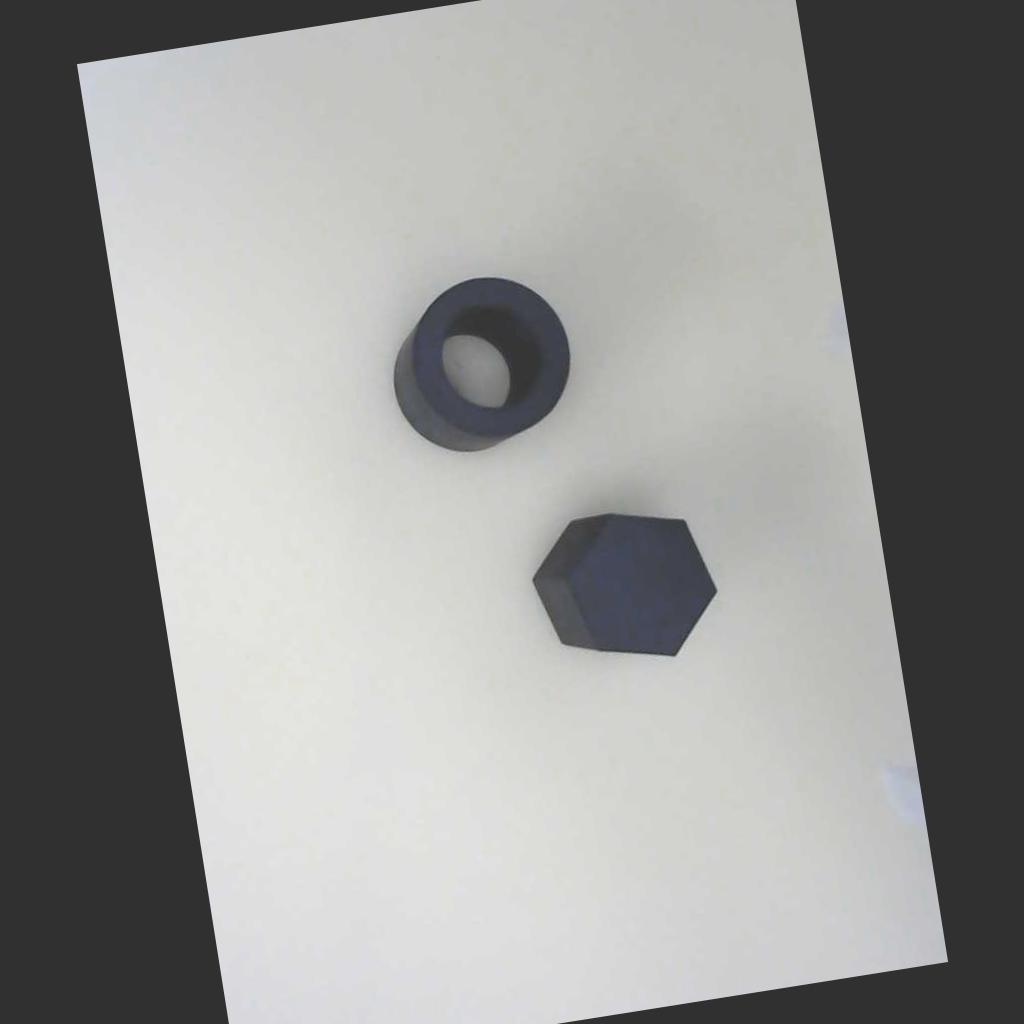hexagon: (500, 464, 749, 712)
ring: (369, 257, 584, 471)
